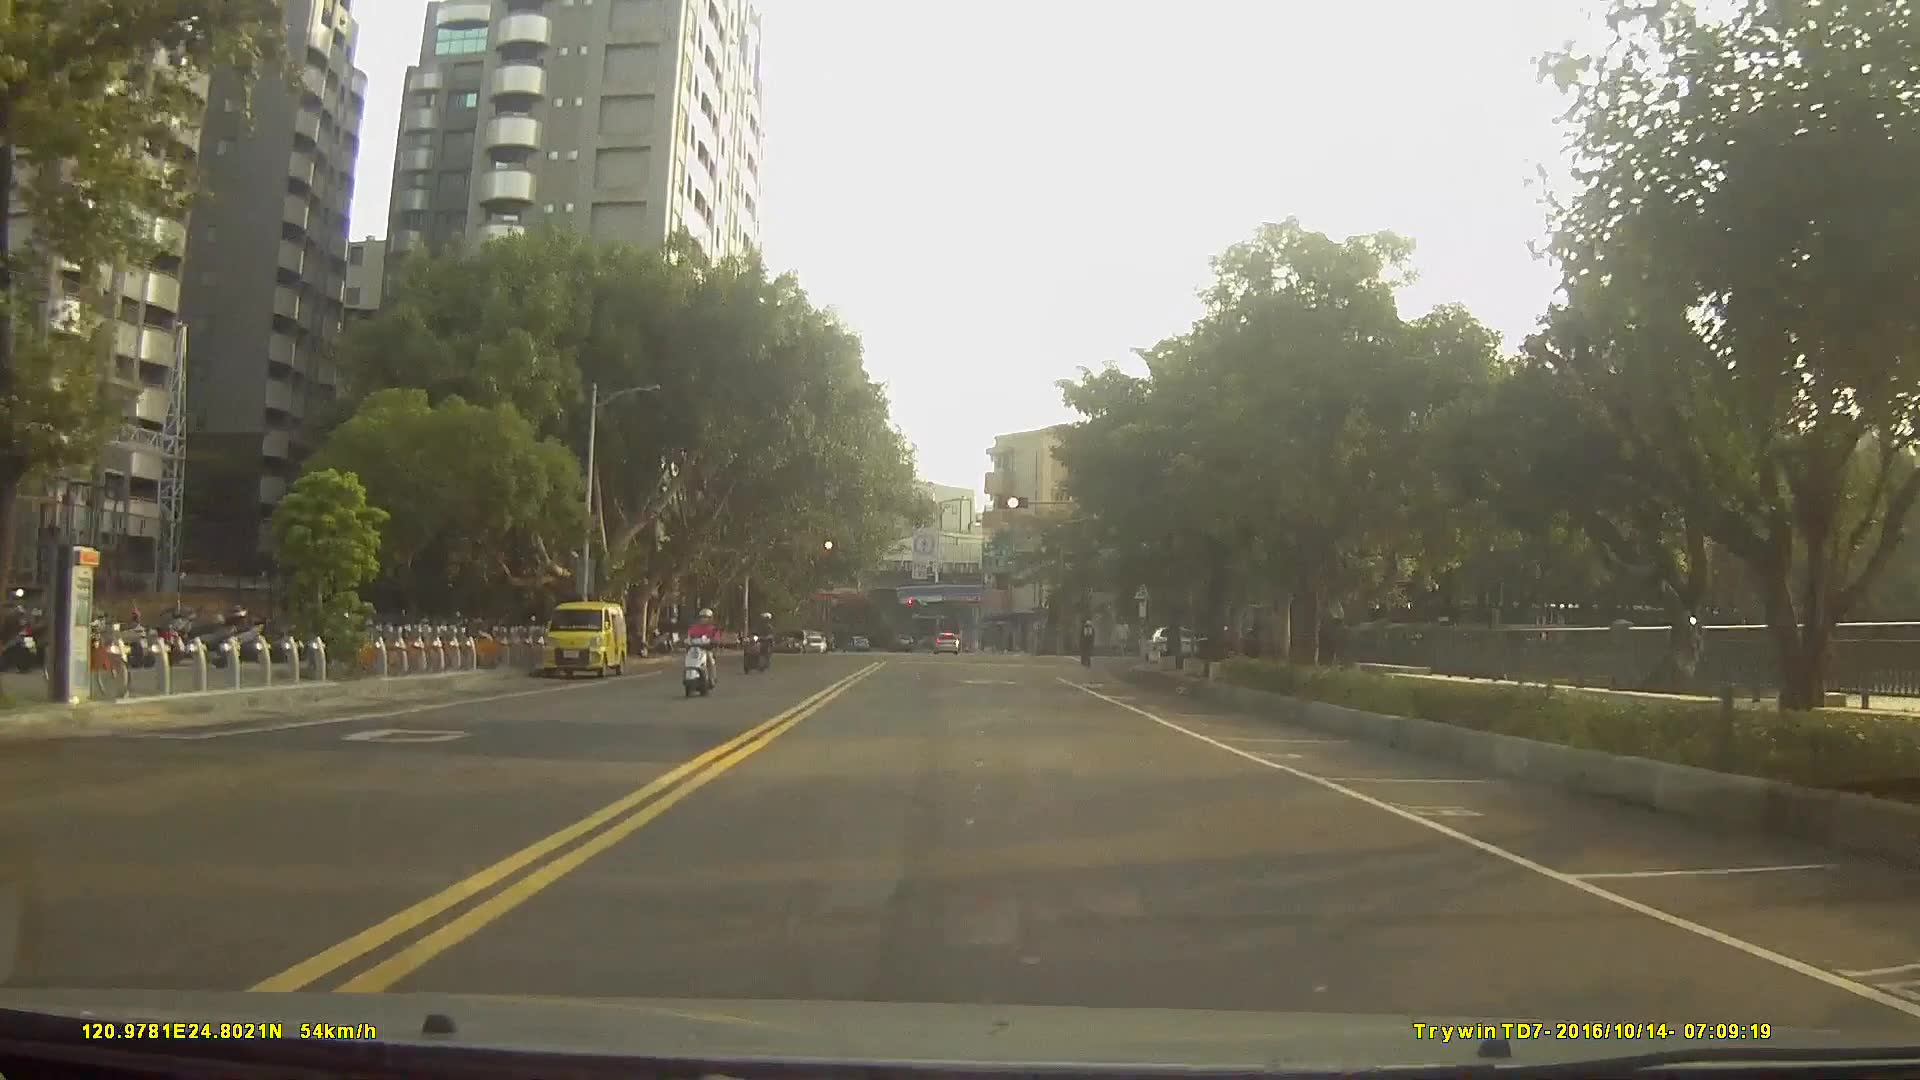pedestrian: (1114, 613, 1134, 659)
rider: (679, 610, 725, 697), (743, 608, 779, 672), (1078, 619, 1100, 672)
vehicle: (935, 632, 960, 655)
